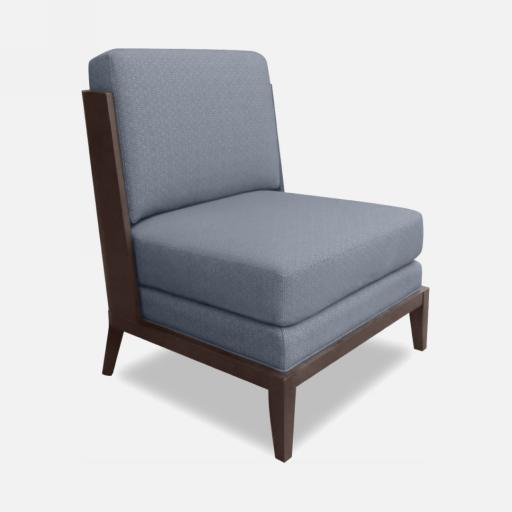chair: (82, 47, 430, 460)
